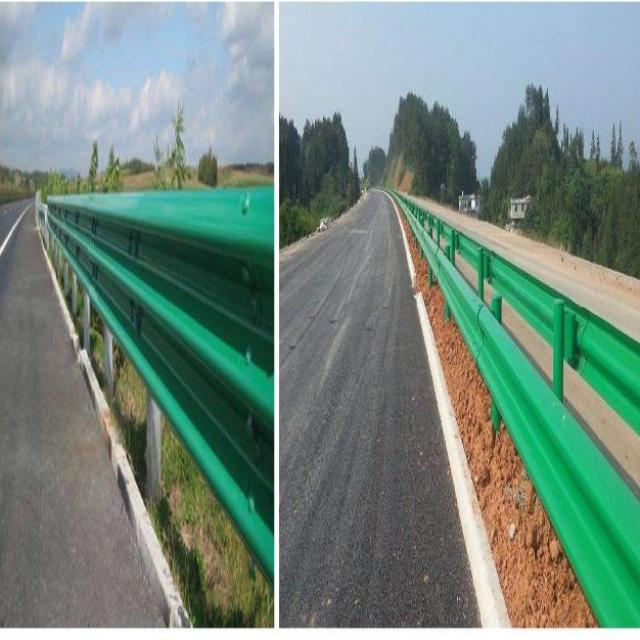Guard rail: (395, 198, 640, 626), (47, 186, 275, 581)
